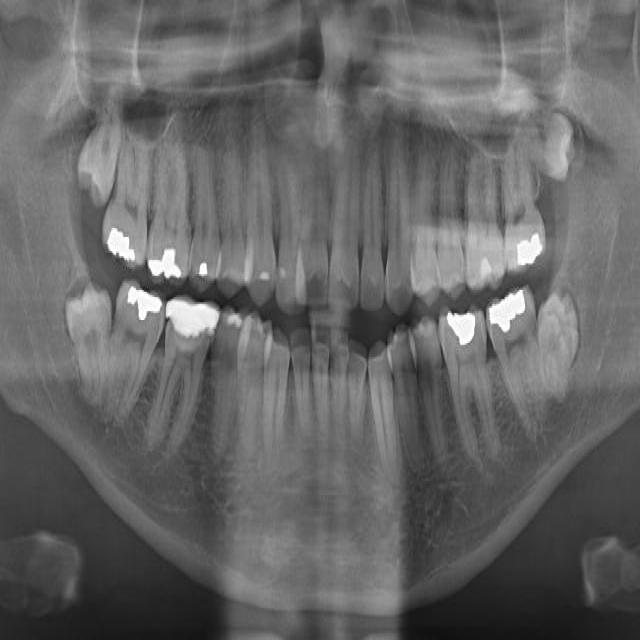dolgu: (114, 267, 168, 331), (441, 298, 487, 368), (99, 212, 145, 272), (142, 233, 186, 291), (482, 288, 537, 334), (509, 218, 546, 270), (188, 245, 222, 285)
kaplama: (164, 289, 223, 356)
